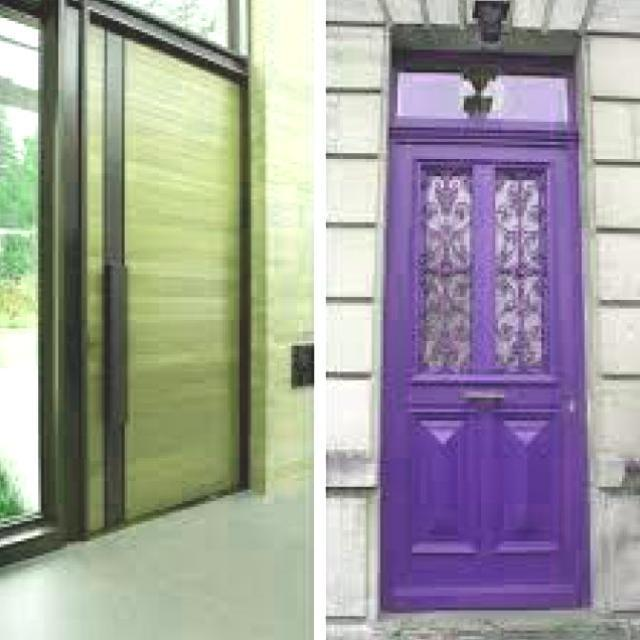door: (356, 6, 610, 634), (73, 4, 266, 561)
